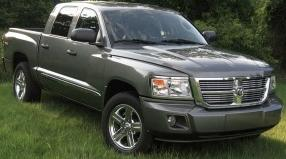front_view: (145, 60, 282, 146)
headlight: (148, 72, 192, 107)
side_glass: (32, 5, 118, 49)
